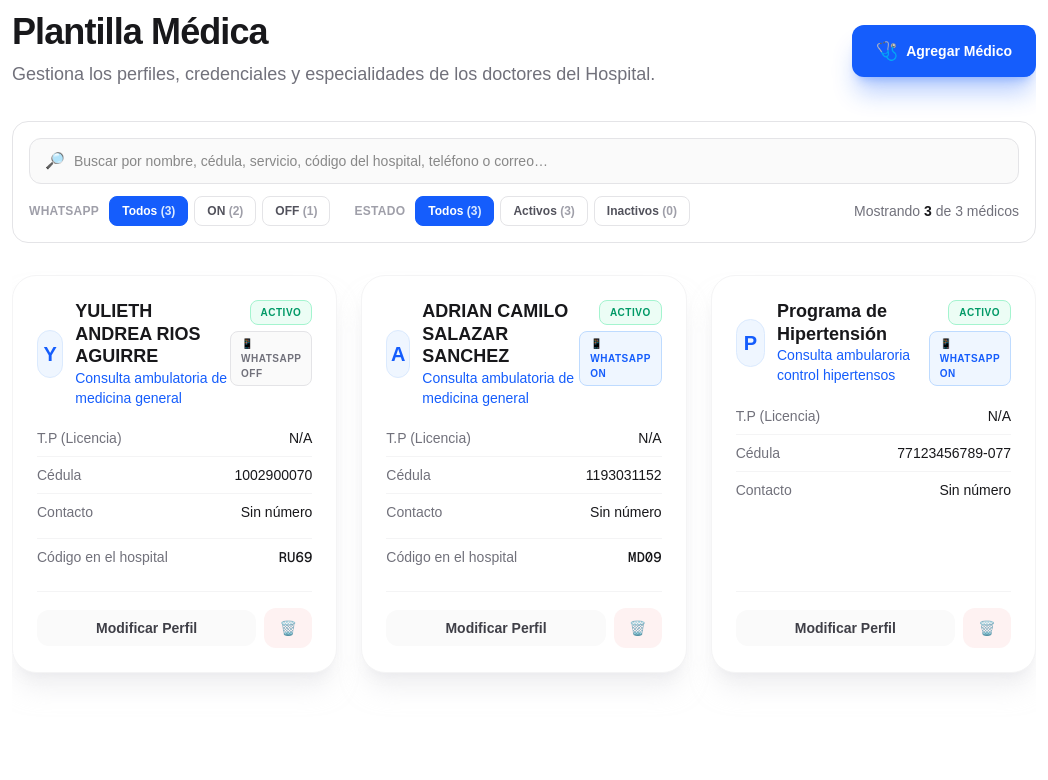
Scenario: Médicos — buscar por lo que sea › sin resultados lo dice, y «Limpiar filtros» vuelve a mostrar todos
Type "no existe" into the search field named "Buscar médicos" at coordinates (524, 161), box [29, 138, 1019, 184]
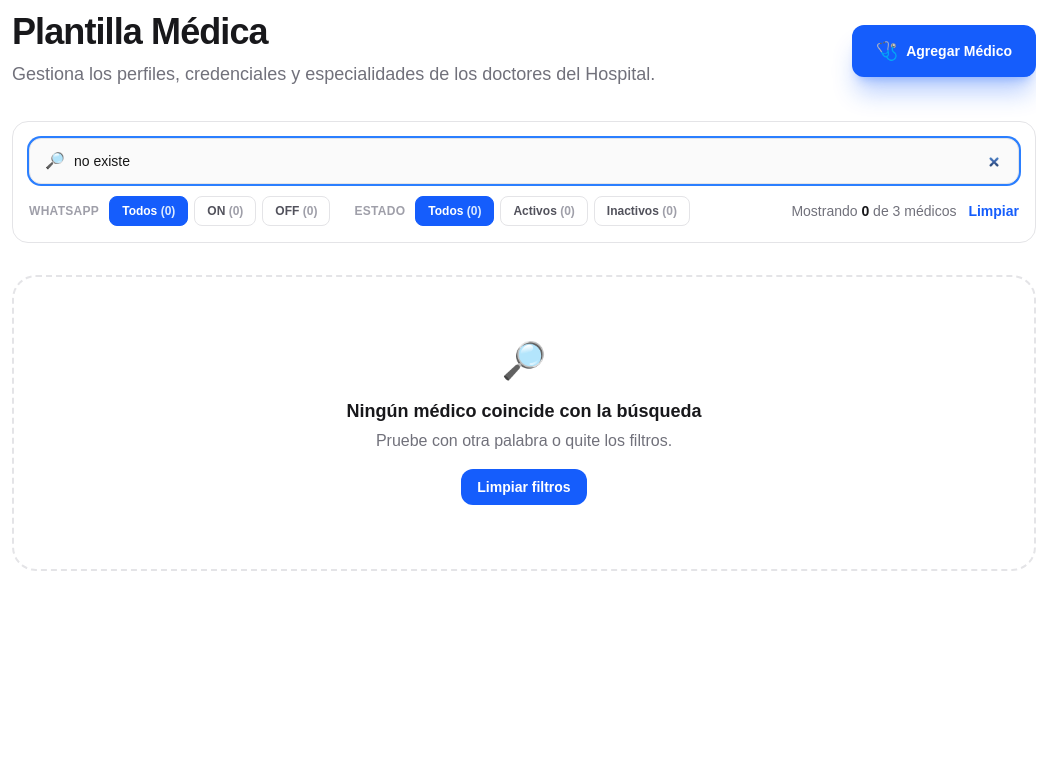
Check: the heading "Ningún médico coincide con la búsqueda" is shown, box [346, 401, 702, 421]
Click the button "Limpiar filtros" at coordinates (524, 487), box [461, 469, 587, 505]
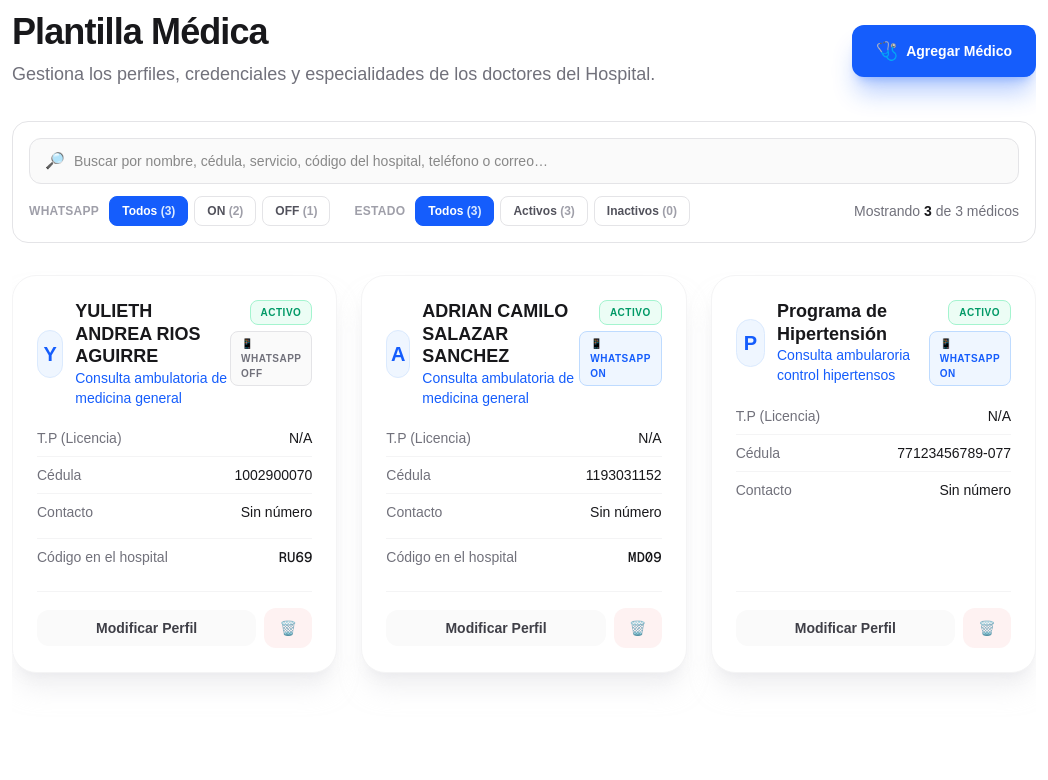
Check: the search field named "Buscar médicos" is empty, box [29, 138, 1019, 184]
